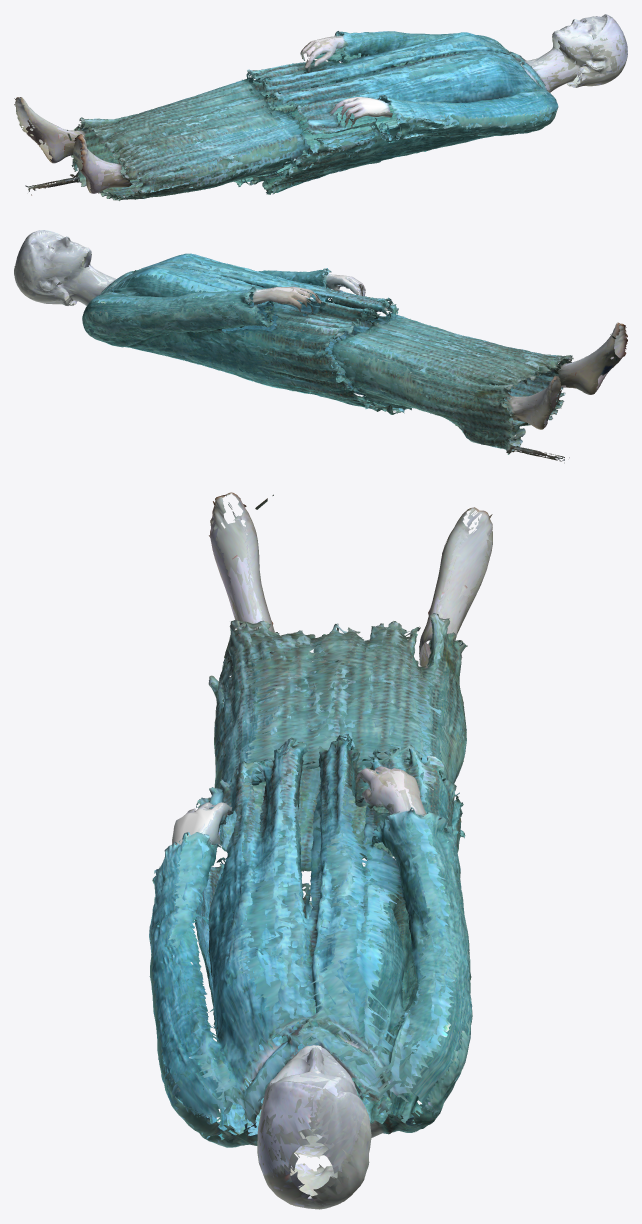
File: patricia-lester-body-scan.glb
The picture shows the model from 3 angles, top to bottom: view 1: azimuth 30°, elevation 25°; view 2: azimuth 150°, elevation 25°; view 3: azimuth 270°, elevation 25°; orthographic projection. The views are drawn at different scales.
Bounding box in the file's own units: 1.83 × 0.3581 × 0.4807.
8 materials, 8 textured.
